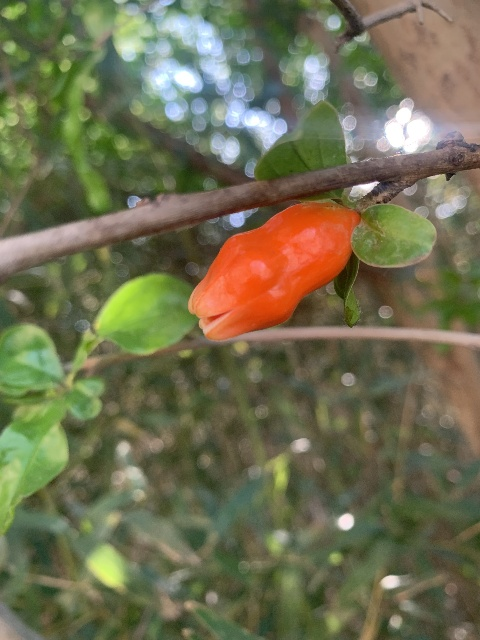bud: (188, 201, 359, 340)
